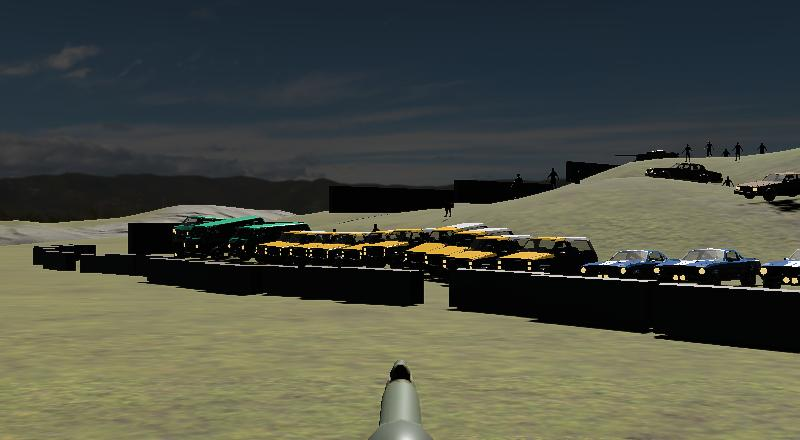car: (404, 226, 503, 282), (498, 233, 602, 278), (670, 242, 763, 289), (578, 244, 685, 283), (226, 220, 308, 258), (731, 168, 800, 206), (642, 159, 722, 187), (760, 244, 800, 292), (462, 230, 522, 258)
